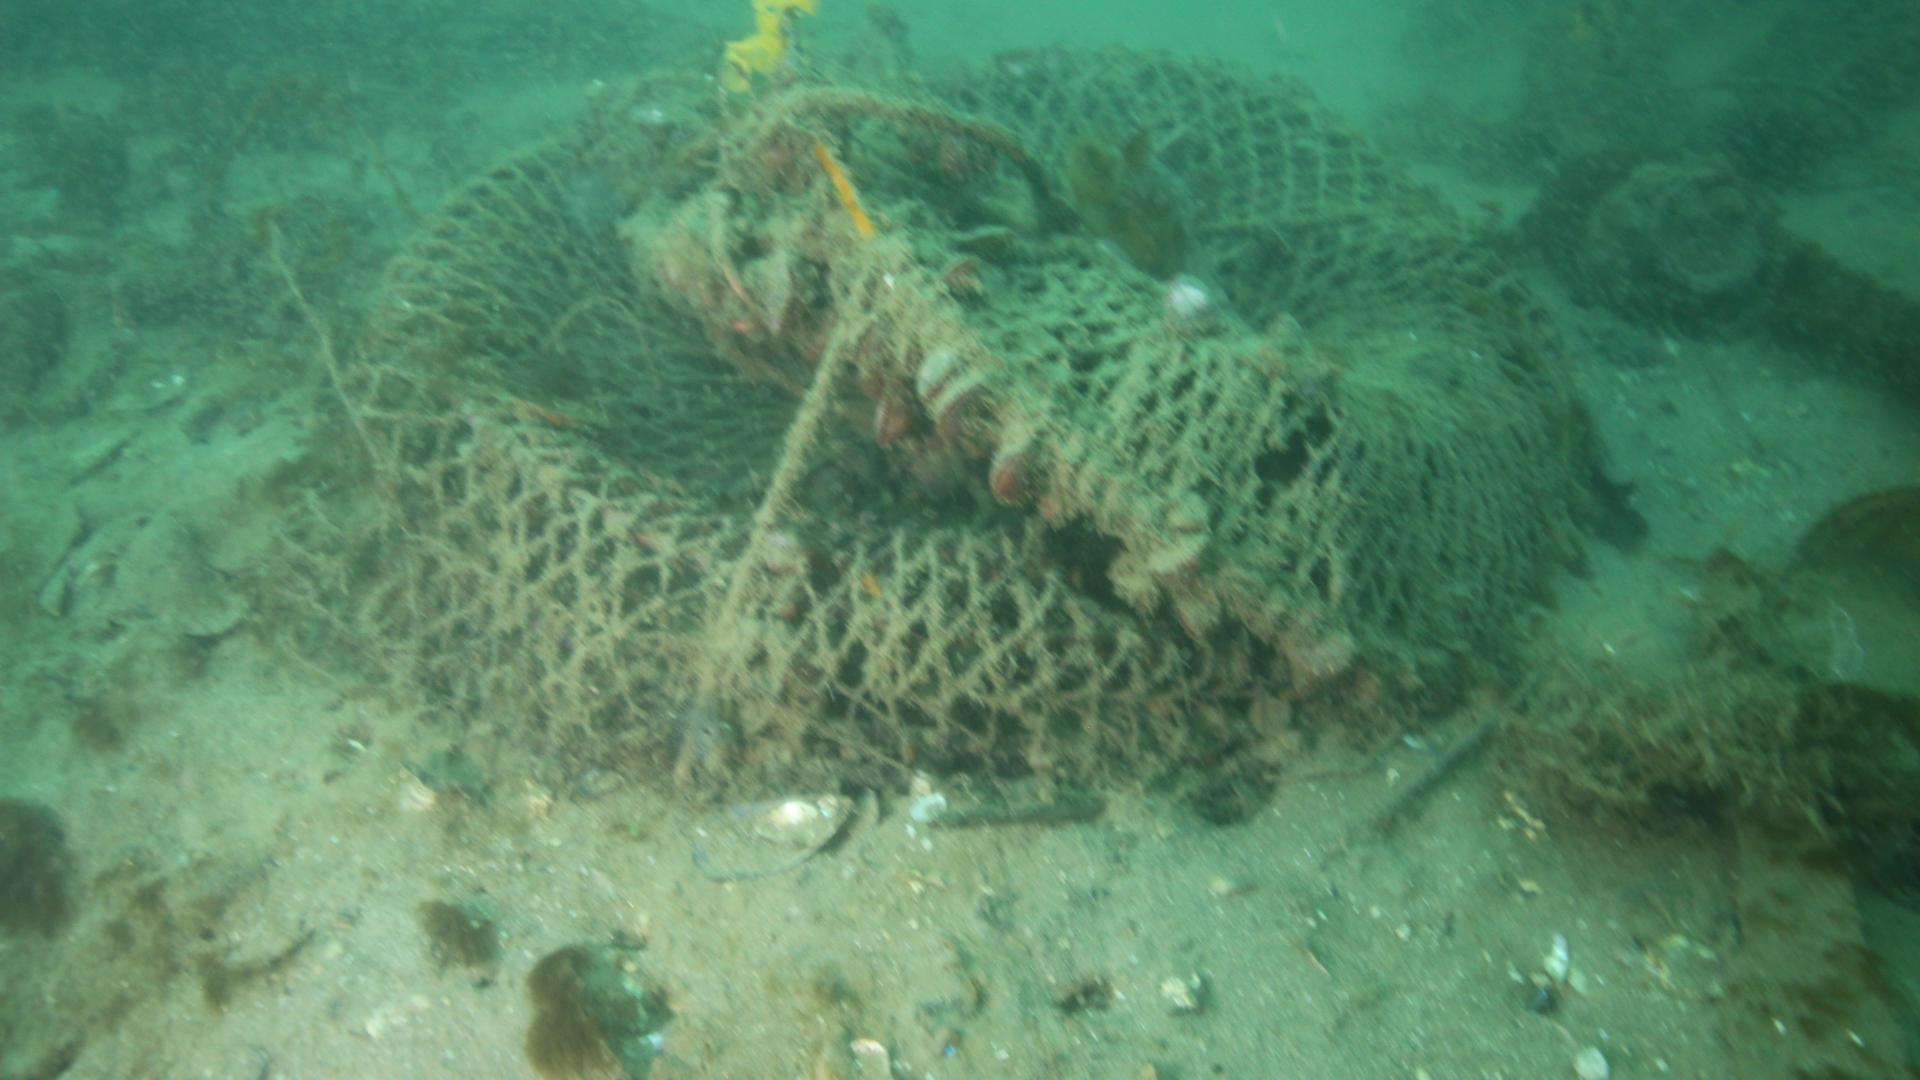fish net: (269, 42, 1580, 775)
